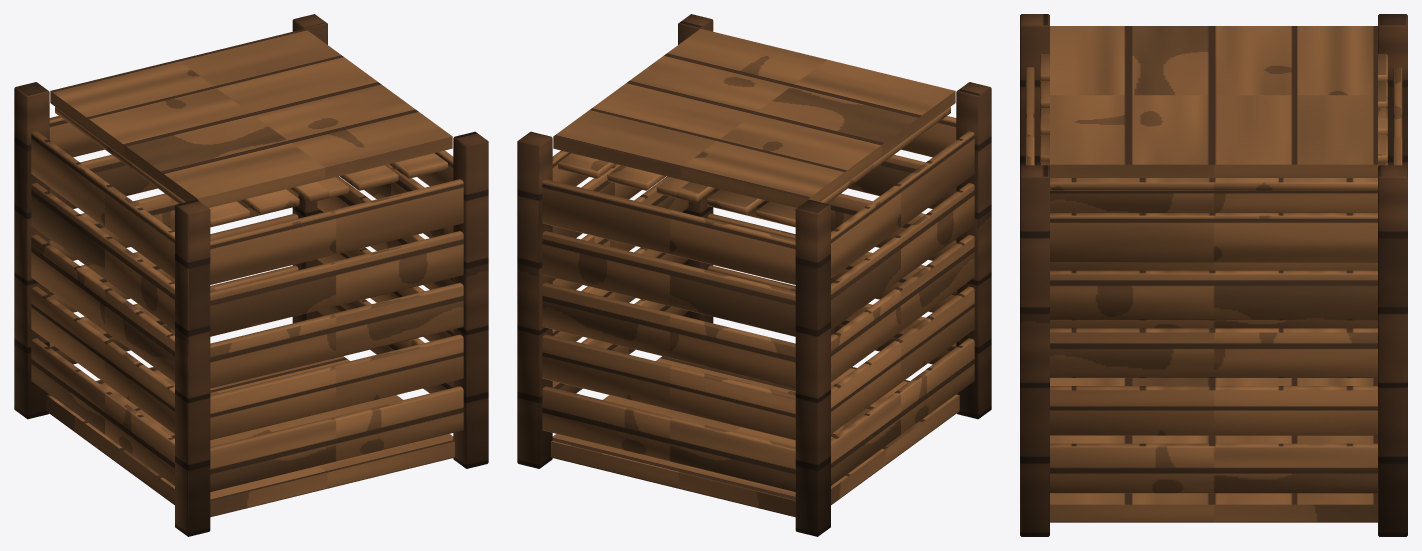
Rendered from Crate.fbx.
3 views of the same model, side by side, from view 1: azimuth 30°, elevation 25°; view 2: azimuth 150°, elevation 25°; view 3: azimuth 270°, elevation 25° (orthographic). The views are drawn at different scales.
Parts seen in each view (by area): view 1: LOD0; view 2: LOD0; view 3: LOD0.
Boxes of the visible parts, box(x1,y1,x2,y2) form: LOD0: box(14, 14, 488, 536); LOD0: box(517, 14, 991, 536); LOD0: box(1020, 14, 1407, 536).
Size of what is drawn, in the model's own units: 78 by 80 by 78.
